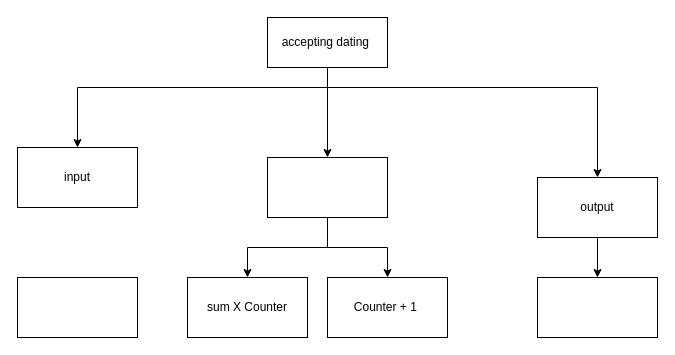
Image size: 675x355. Some labels were removed from this diagram. The centre of each missing label's shape, as x and y in pixels:
"Get number" belongs at (x=77, y=307).
"process" belongs at (x=327, y=187).
"show answer" belongs at (x=597, y=307).
